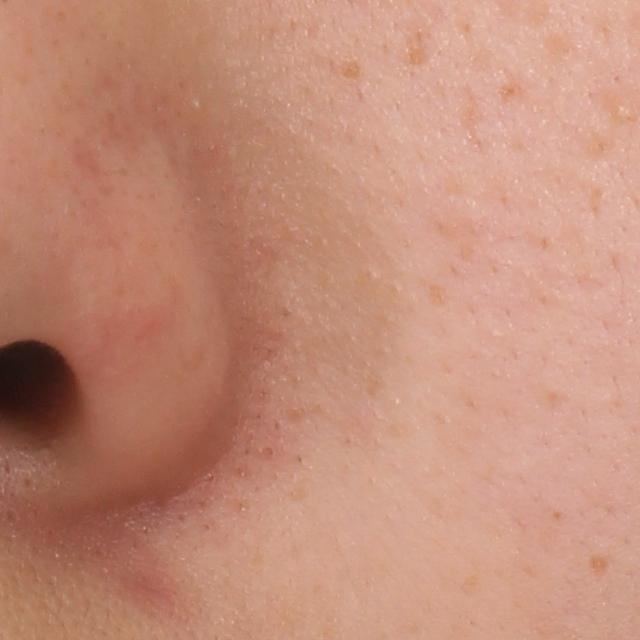melasma: (586, 553, 614, 579)
